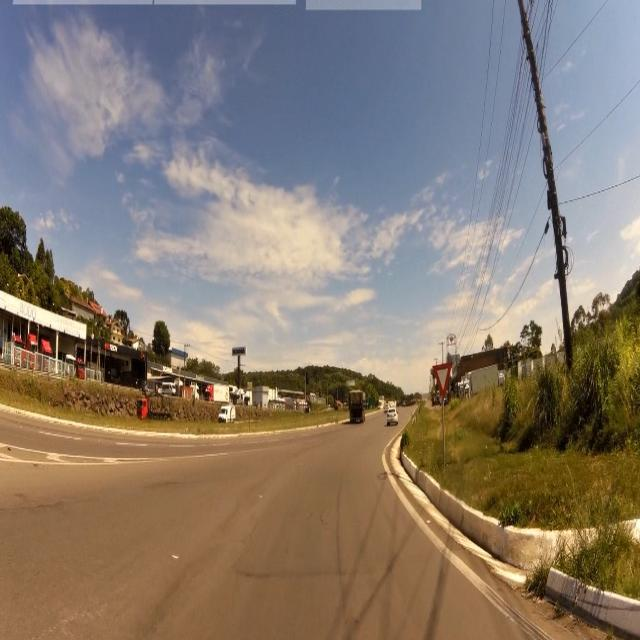R-2: (430, 361, 454, 401)
